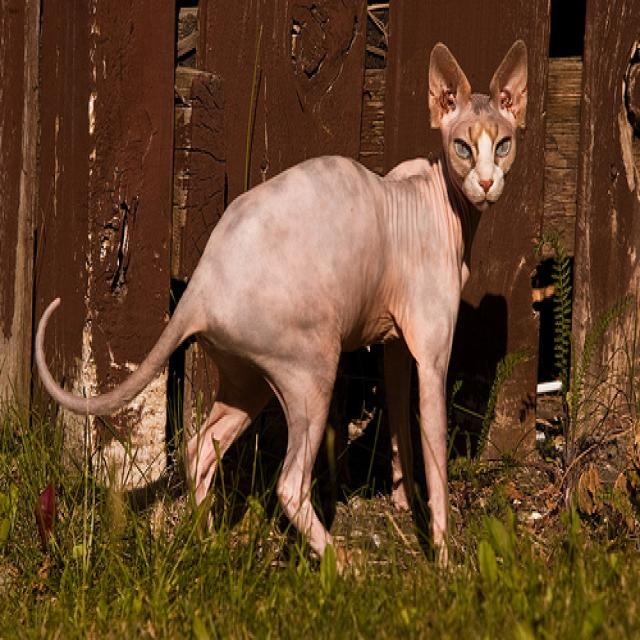cat: (426, 36, 526, 208)
